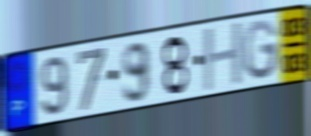7: (75, 45, 107, 112)
8: (161, 33, 189, 96)
9: (37, 54, 70, 118), (120, 40, 151, 104)
G: (241, 17, 280, 83)
H: (202, 19, 245, 95)
